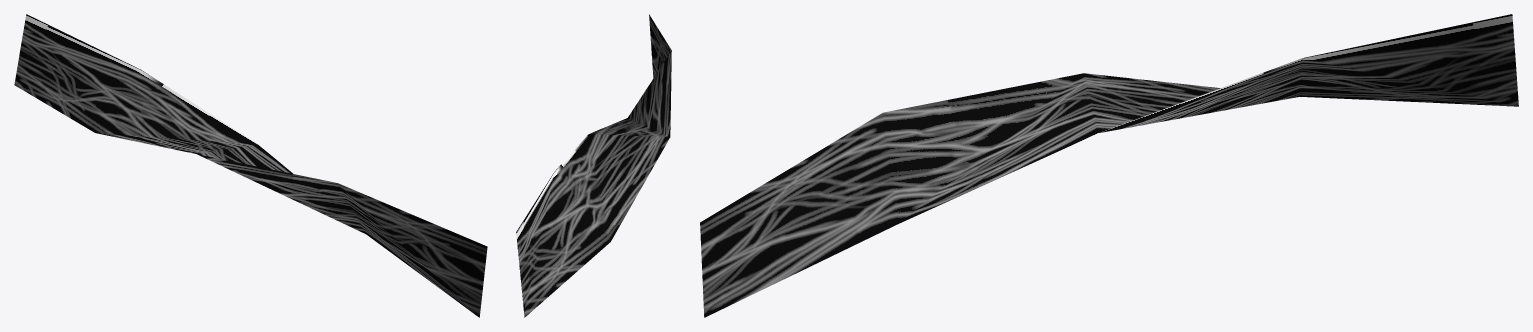
File: TI_SpiderWeb_02.fbx
3 renders of one model, left to right at view 1: azimuth 30°, elevation 25°; view 2: azimuth 150°, elevation 25°; view 3: azimuth 270°, elevation 25°, orthographic. The views are drawn at different scales.
Visible parts, largest first — view 1: TI_SpiderWeb_02; view 2: TI_SpiderWeb_02; view 3: TI_SpiderWeb_02.
Part boxes in pixels (bbox=[...]): TI_SpiderWeb_02: bbox=[14, 14, 487, 317]; TI_SpiderWeb_02: bbox=[516, 14, 671, 317]; TI_SpiderWeb_02: bbox=[700, 14, 1518, 317].
Size of the model in its own units: 2.18 by 1.54 by 6.02.
